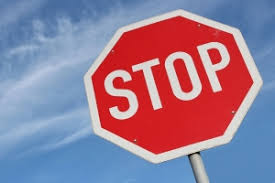stop: (82, 8, 264, 164)
